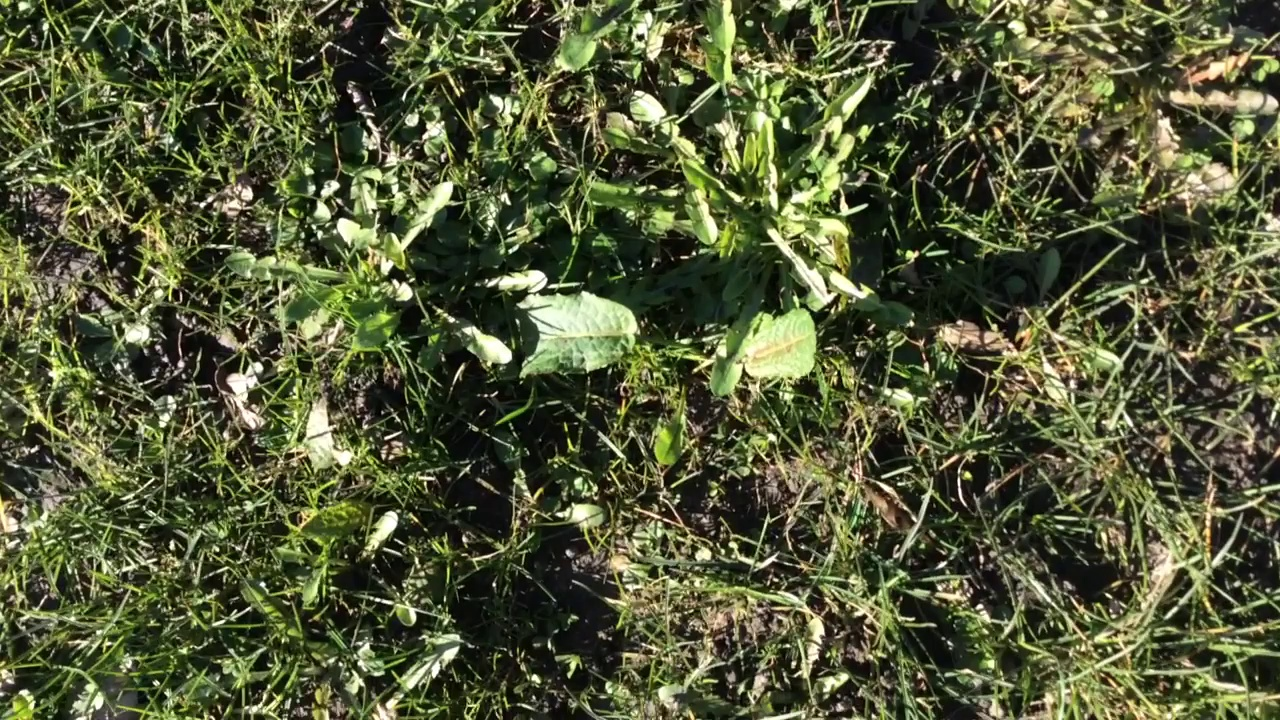rumex: (480, 295, 639, 377), (717, 311, 816, 381)
